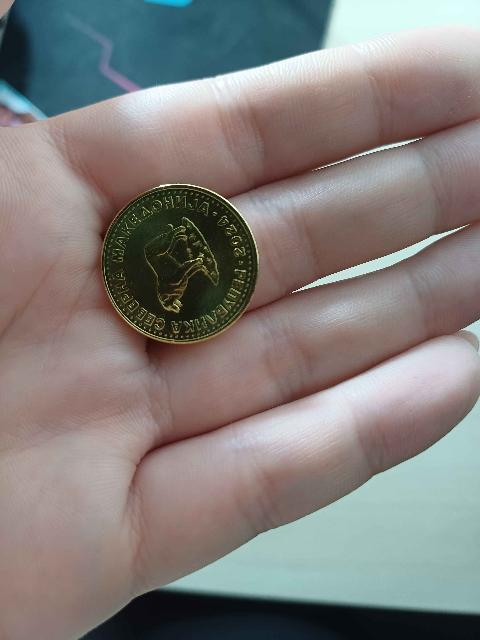1_coin: (102, 184, 258, 343)
